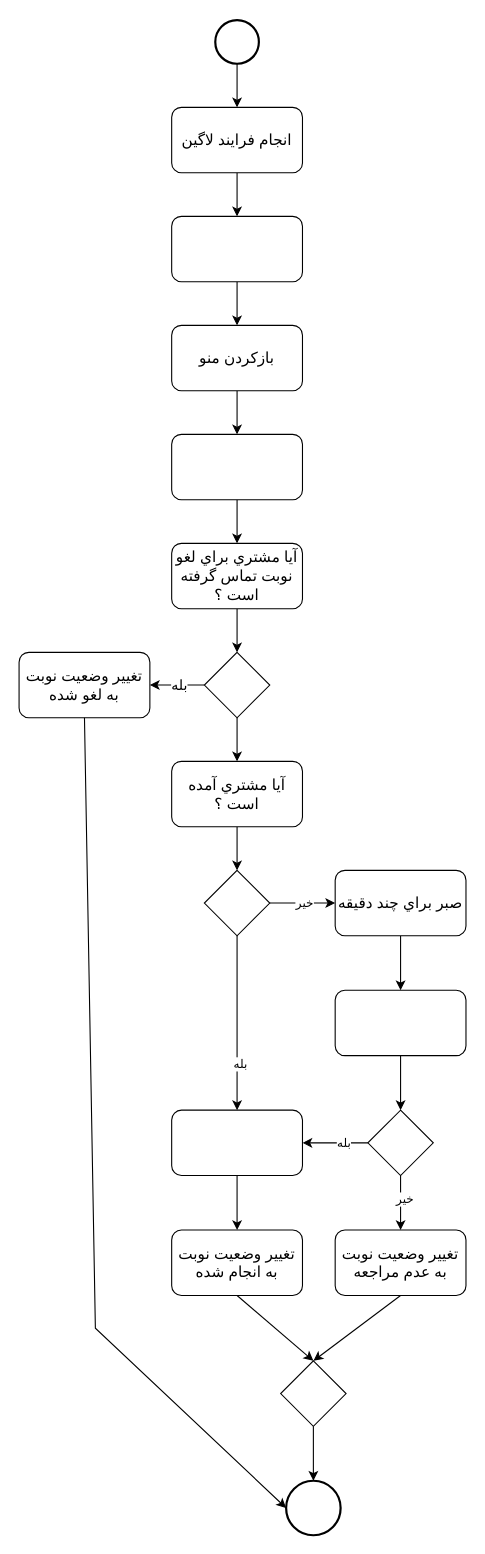
Some shapes in this 485 by 1554 pixel diagram are drawn without their labels. The centre of each missing label's shape, as x and y in pixels:
"آيا مشتري مراجعه كرد ؟" goes at [400,1022].
"ارائه خدمات" goes at [236,1142].
"باز شدن داشبور كاري من" goes at [236,248].
"ديدن ليست نوبت ها" goes at [236,466].
